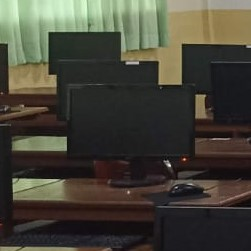monitor: (65, 83, 196, 160), (56, 60, 160, 121), (181, 43, 250, 95), (48, 31, 122, 76), (210, 61, 250, 123)
